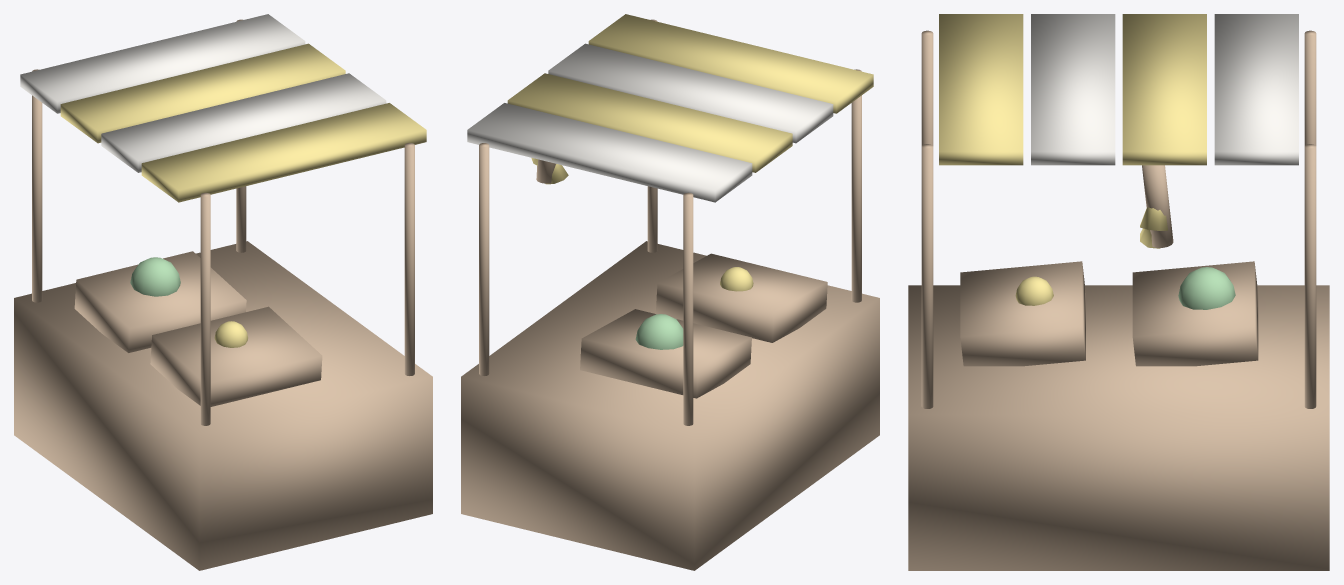
Rendered from fruit_market_lv2.glb.
The picture shows the model from 3 angles, left to right: view 1: azimuth 30°, elevation 25°; view 2: azimuth 150°, elevation 25°; view 3: azimuth 270°, elevation 25°; orthographic projection. The views are drawn at different scales.
Visible parts, largest first — view 1: table, awn_0, awn_2, awn_1, awn_3, crate1, crate2, p_rl, p_rr, p_fl, melon_1, p_fr (+1 smaller); view 2: table, awn_3, awn_1, awn_2, awn_0, crate1, crate2, p_fl, p_fr, p_rl, melon_1, p_rr (+1 smaller); view 3: table, awn_0, awn_1, awn_2, awn_3, crate1, crate2, p_fr, p_rr, melon_1, banana_bunch_core, p_fl (+2 smaller).
Part boxes in pixels (bbox=[...]): table: bbox=[14, 241, 432, 570]; awn_0: bbox=[141, 103, 426, 202]; awn_2: bbox=[60, 43, 345, 143]; awn_1: bbox=[101, 73, 386, 172]; awn_3: bbox=[20, 14, 305, 113]; crate1: bbox=[150, 306, 322, 406]; crate2: bbox=[74, 251, 246, 352]; p_rl: bbox=[200, 192, 210, 425]; p_rr: bbox=[404, 143, 414, 375]; p_fl: bbox=[32, 69, 42, 302]; melon_1: bbox=[130, 257, 180, 296]; p_fr: bbox=[236, 19, 246, 252]; table: bbox=[461, 241, 879, 570]; awn_3: bbox=[467, 103, 752, 202]; awn_1: bbox=[548, 43, 833, 143]; awn_2: bbox=[507, 73, 792, 172]; awn_0: bbox=[588, 14, 873, 113]; crate1: bbox=[656, 253, 827, 342]; crate2: bbox=[580, 309, 751, 398]; p_fl: bbox=[683, 192, 693, 425]; p_fr: bbox=[479, 143, 489, 375]; p_rl: bbox=[851, 69, 861, 302]; melon_1: bbox=[635, 314, 683, 349]; p_rr: bbox=[647, 19, 657, 252]; table: bbox=[908, 285, 1329, 570]; awn_0: bbox=[939, 14, 1023, 165]; awn_1: bbox=[1031, 14, 1115, 165]; awn_2: bbox=[1122, 14, 1206, 165]; awn_3: bbox=[1214, 14, 1298, 165]; crate1: bbox=[960, 261, 1085, 366]; crate2: bbox=[1132, 261, 1258, 366]; p_fr: bbox=[1304, 144, 1316, 408]; p_rr: bbox=[921, 144, 933, 408]; melon_1: bbox=[1178, 267, 1235, 309]; banana_bunch_core: bbox=[1142, 165, 1173, 247]; p_fl: bbox=[1304, 30, 1316, 145].
Size of the model in its own units: 0.85 by 1.22 by 1.1.
